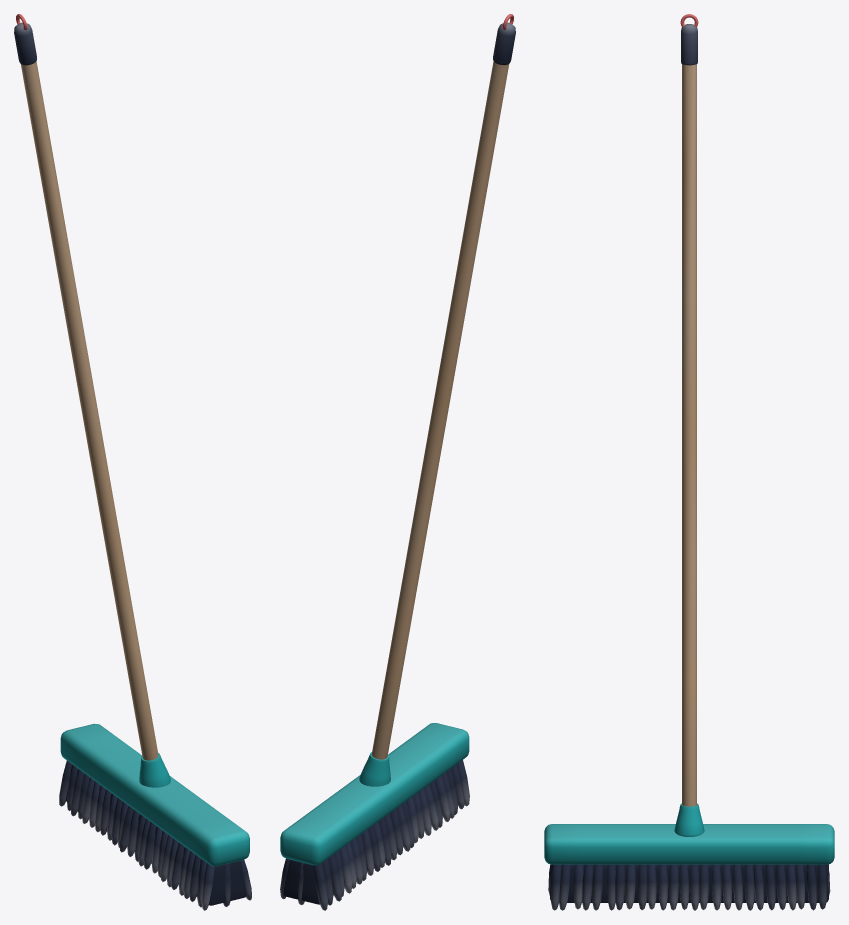
Rendered from broom.glb.
3 renders of one model, left to right at view 1: azimuth 30°, elevation 25°; view 2: azimuth 150°, elevation 25°; view 3: azimuth 270°, elevation 25°, orthographic. The views are drawn at different scales.
Visible parts, largest first — view 1: Broom; view 2: Broom; view 3: Broom.
Part boxes in pixels (x1,y1,x2,y2): Broom: (14,14,251,910); Broom: (280,14,515,910); Broom: (544,14,834,910).
Size of the model in its own units: 0.2801 by 1.41 by 0.45.
